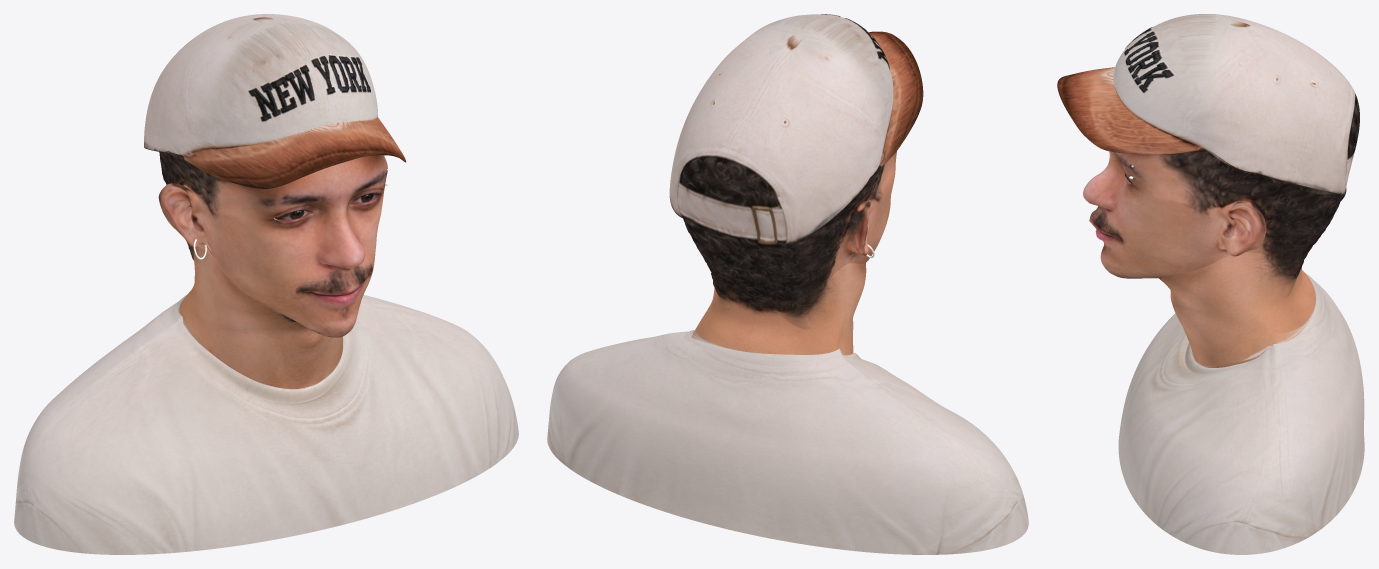
File: matheus-busto.glb
The picture shows the model from 3 angles, left to right: view 1: azimuth 30°, elevation 25°; view 2: azimuth 150°, elevation 25°; view 3: azimuth 270°, elevation 25°; orthographic projection. The views are drawn at different scales.
Visible parts, largest first — view 1: camiseta, rosto e pescoço, boné • copa, base do pescoço, boné • aba superior, boné • costura da aba; view 2: camiseta, boné • copa, rosto e pescoço, base do pescoço, boné • aba superior; view 3: camiseta, boné • copa, rosto e pescoço, base do pescoço, boné • aba superior.
Boxes of the visible parts, box(x1,y1,x2,y2) form: camiseta: box(14, 295, 518, 554); rosto e pescoço: box(158, 151, 387, 337); boné • copa: box(144, 14, 377, 154); base do pescoço: box(179, 246, 342, 389); boné • aba superior: box(183, 117, 405, 186); boné • costura da aba: box(184, 153, 406, 188); camiseta: box(547, 330, 1028, 554); boné • copa: box(669, 14, 893, 243); rosto e pescoço: box(683, 151, 896, 329); base do pescoço: box(691, 263, 866, 355); boné • aba superior: box(869, 31, 922, 164); camiseta: box(1118, 273, 1364, 554); boné • copa: box(1113, 14, 1359, 193); rosto e pescoço: box(1083, 147, 1346, 298); base do pescoço: box(1159, 252, 1316, 367); boné • aba superior: box(1058, 67, 1199, 153).
Bounding box in the file's own units: 0.43 × 0.3928 × 0.2578.
Materials: 13 (12 with a texture image).
